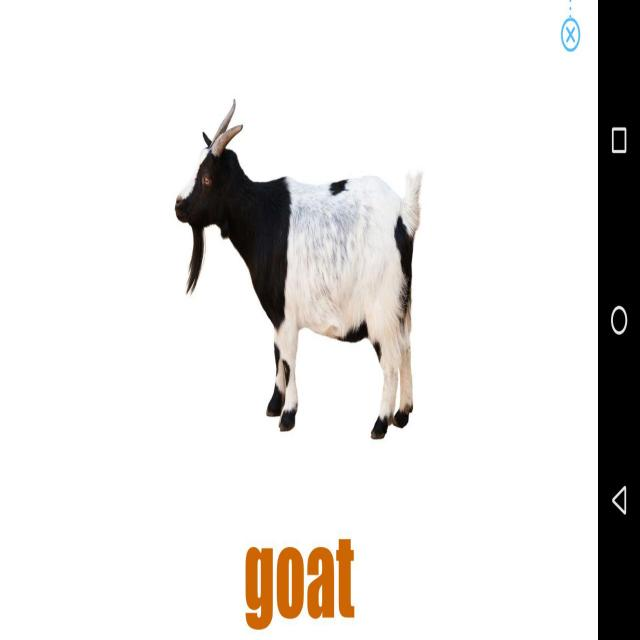button: (556, 14, 585, 58)
image: (152, 90, 438, 455)
text: (232, 532, 358, 632)
